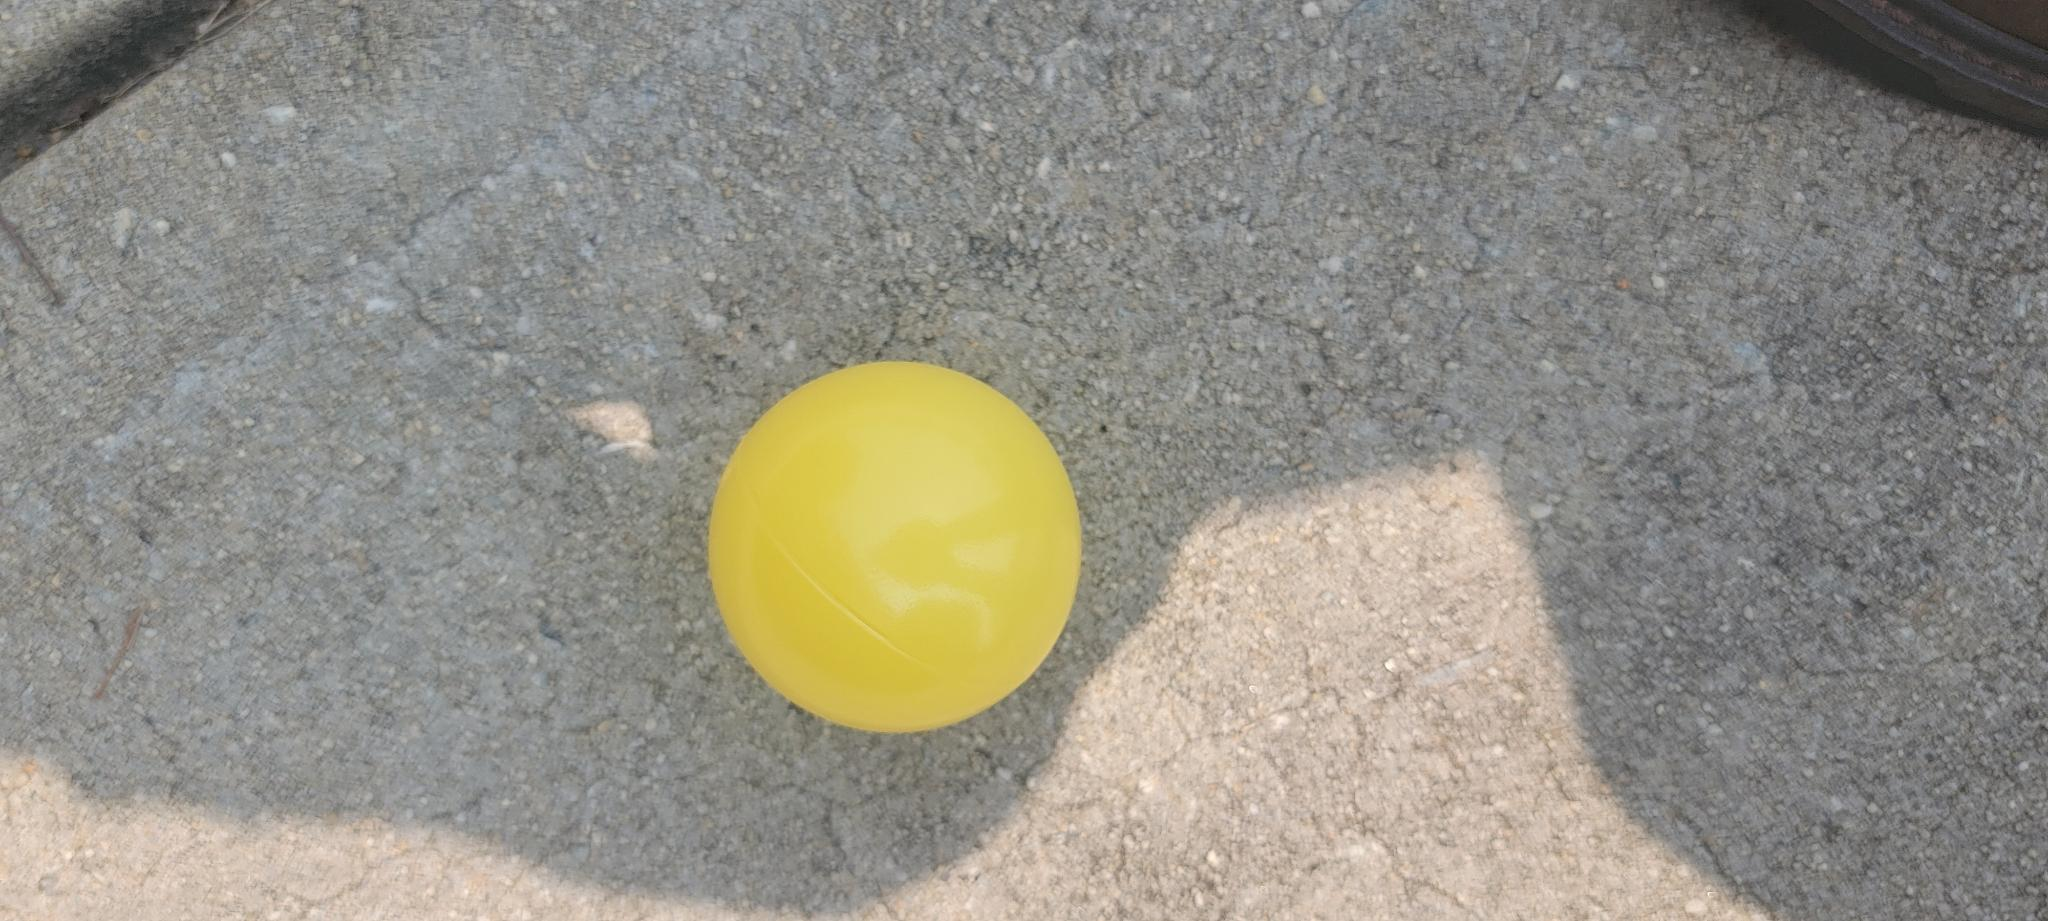Yellow-Ball: (195, 711, 564, 921)
